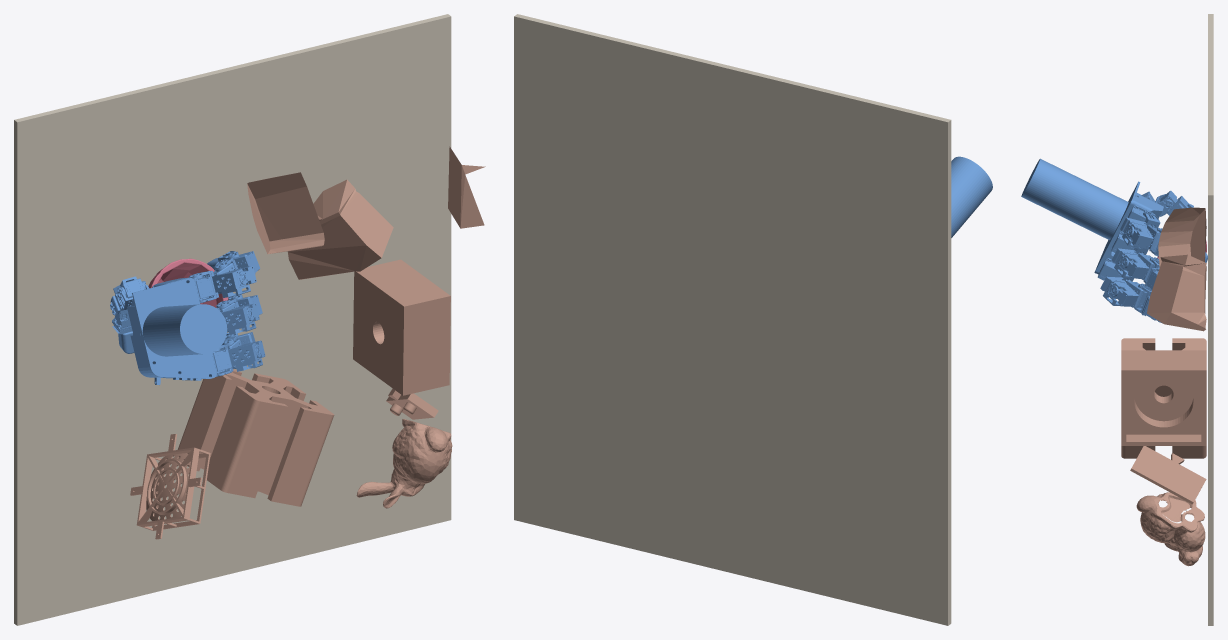
3 views of the same model, side by side, from view 1: azimuth 30°, elevation 25°; view 2: azimuth 150°, elevation 25°; view 3: azimuth 270°, elevation 25° (orthographic). The views are drawn at different scales.
Visible parts, largest first — view 1: environment, hand, obstacle_007, obstacle_005, obstacle_000, obstacle_003, obstacle_006, obstacle_001, obstacle_004, world, obstacle_002; view 2: environment, hand; view 3: hand, obstacle_005, obstacle_000, environment, obstacle_001, obstacle_002, obstacle_006, obstacle_007.
Boxes of the visible parts, left/top/right/bottom form: environment: left=14, top=14, right=451, bottom=625; hand: left=110, top=251, right=265, bottom=385; obstacle_007: left=177, top=369, right=334, bottom=506; obstacle_005: left=353, top=259, right=450, bottom=395; obstacle_000: left=287, top=179, right=393, bottom=279; obstacle_003: left=130, top=434, right=210, bottom=539; obstacle_006: left=247, top=172, right=324, bottom=254; obstacle_001: left=356, top=419, right=452, bottom=508; obstacle_004: left=448, top=146, right=485, bottom=228; world: left=148, top=258, right=228, bottom=307; obstacle_002: left=386, top=388, right=438, bottom=419; environment: left=514, top=14, right=951, bottom=625; hand: left=951, top=156, right=992, bottom=237; hand: left=1021, top=158, right=1207, bottom=323; obstacle_005: left=1121, top=350, right=1206, bottom=445; obstacle_000: left=1147, top=254, right=1206, bottom=331; environment: left=1208, top=14, right=1213, bottom=625; obstacle_001: left=1136, top=492, right=1205, bottom=566; obstacle_002: left=1130, top=446, right=1206, bottom=504; obstacle_006: left=1158, top=207, right=1206, bottom=267; obstacle_007: left=1121, top=338, right=1206, bottom=458.
Bounding box in the file's own units: 0.62 × 0.6683 × 0.2705.
